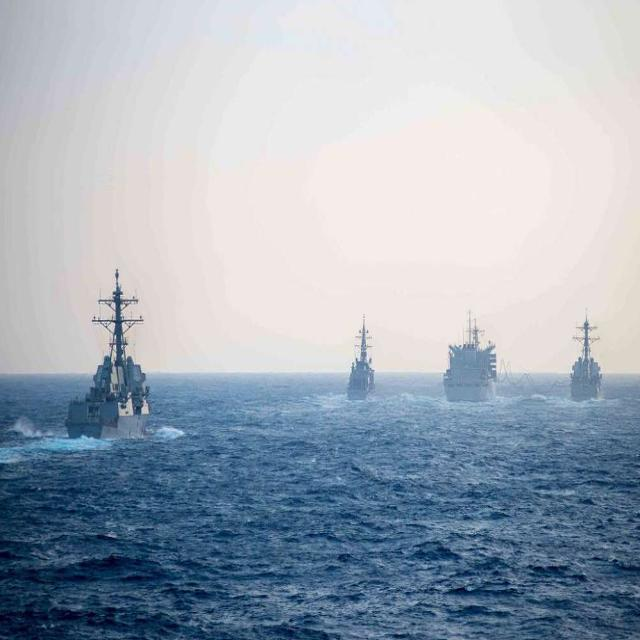navalvessels: (73, 268, 161, 451), (428, 314, 498, 406), (568, 316, 609, 411), (340, 318, 379, 400)
